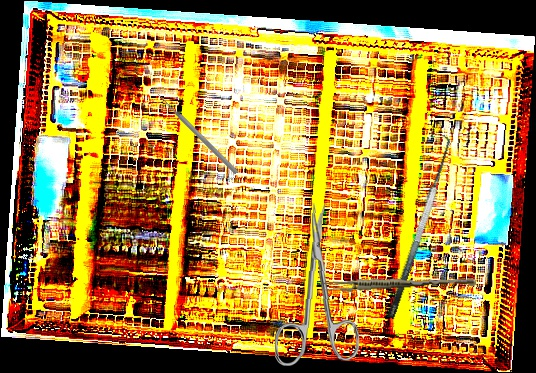Iris Scissors: (274, 201, 364, 369)
Pusher: (155, 91, 240, 176)
Spatula Surgical: (371, 132, 461, 320)
Tissue Forceps: (323, 273, 477, 294)
